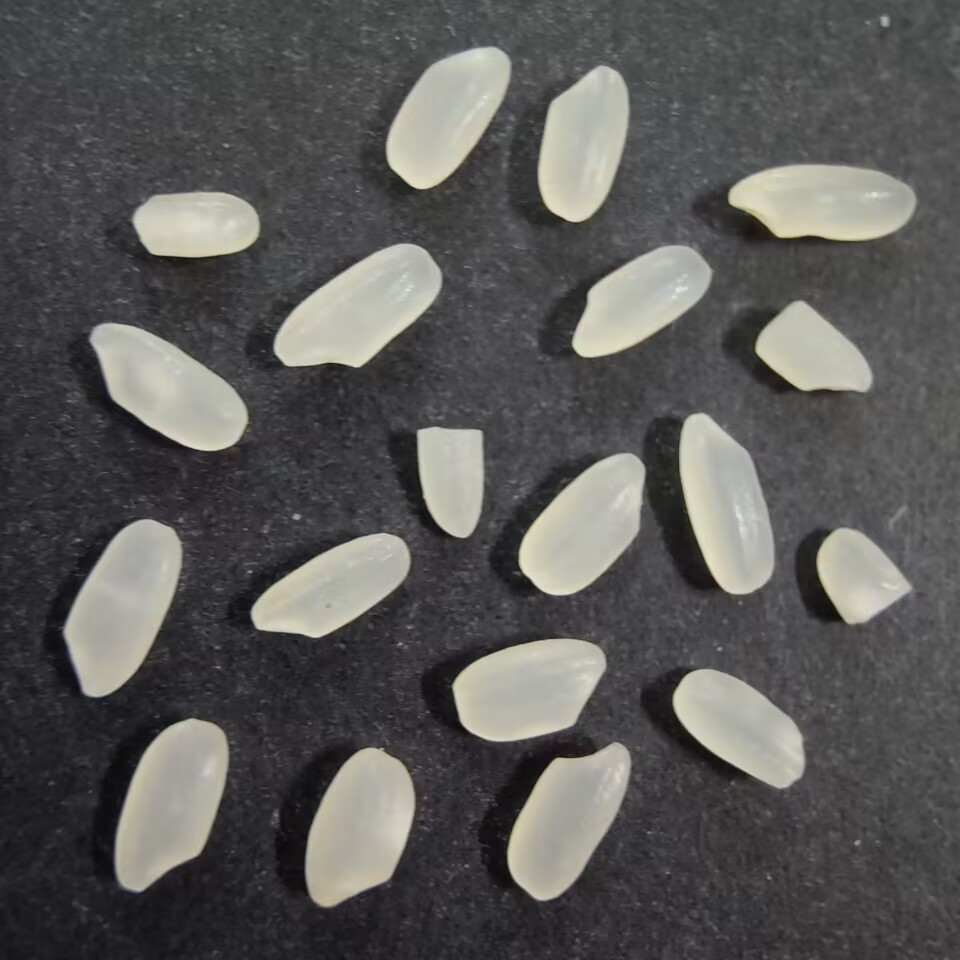broken: (755, 294, 876, 401), (816, 523, 914, 632), (410, 422, 492, 543), (132, 188, 263, 262)
rice: (59, 513, 184, 701), (269, 240, 447, 370), (86, 319, 255, 453), (503, 737, 633, 907), (112, 717, 231, 894), (302, 744, 419, 914), (383, 44, 514, 195), (677, 407, 780, 598), (517, 449, 648, 597), (251, 531, 414, 642), (672, 663, 810, 794), (567, 242, 717, 360), (450, 637, 608, 744), (721, 160, 920, 242), (534, 62, 633, 225)
